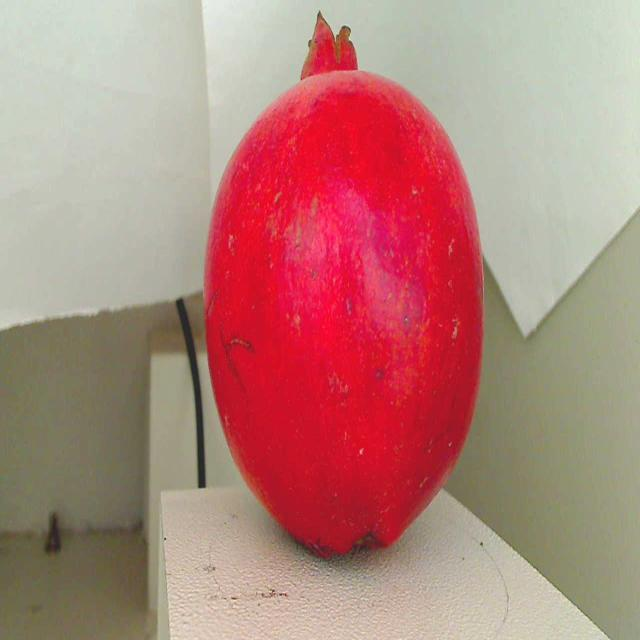pomegranate: (185, 0, 496, 564)
